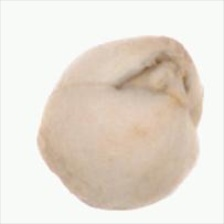L3: (123, 53, 193, 109)
L4: (37, 35, 203, 211)
